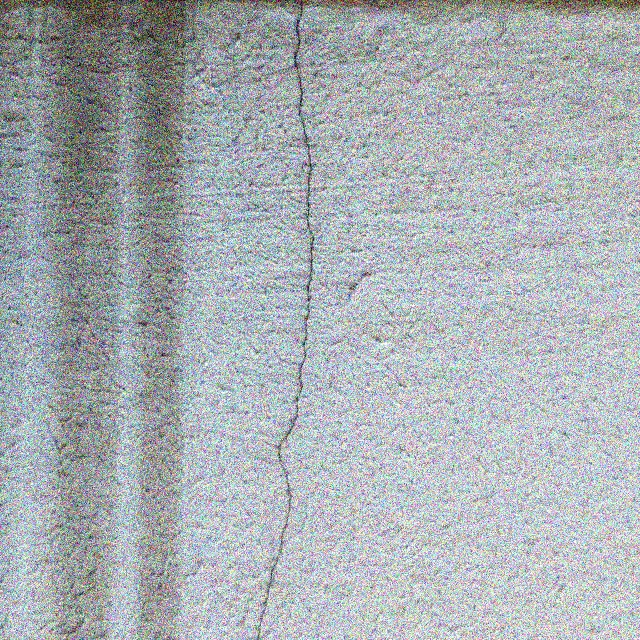SurfaceCrack: (229, 4, 354, 639)
